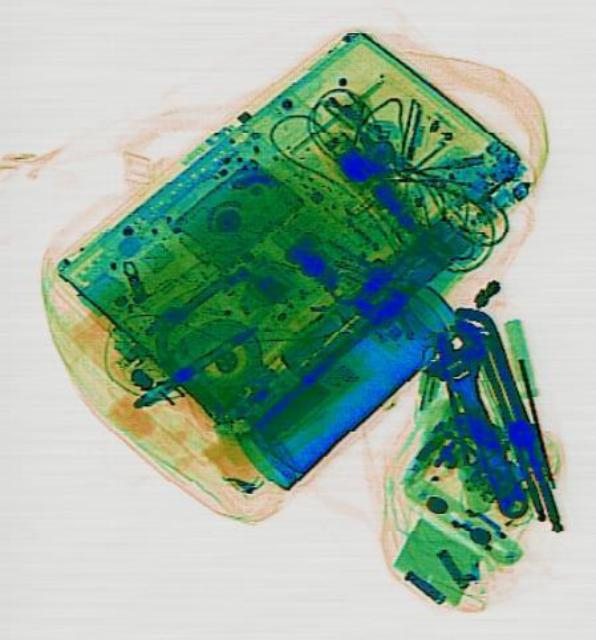Wrench: (407, 314, 544, 530)
